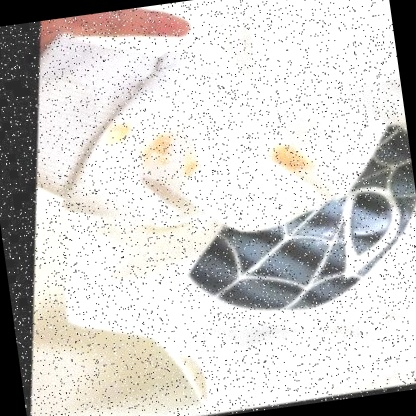kimchi: (267, 139, 315, 175), (105, 115, 143, 154), (144, 130, 182, 165), (184, 160, 199, 177)
